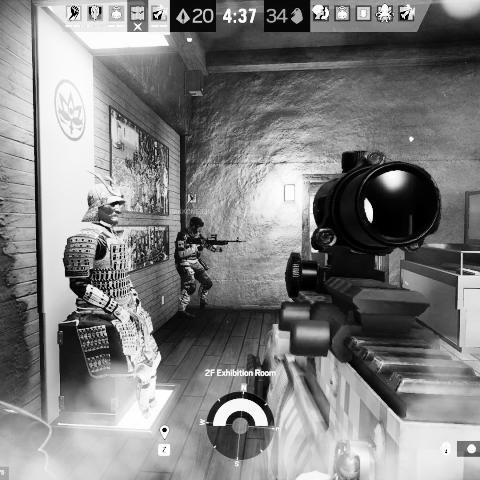Character: (173, 215, 247, 320)
Friend_label: (170, 192, 214, 214)
Head: (189, 216, 204, 232)
